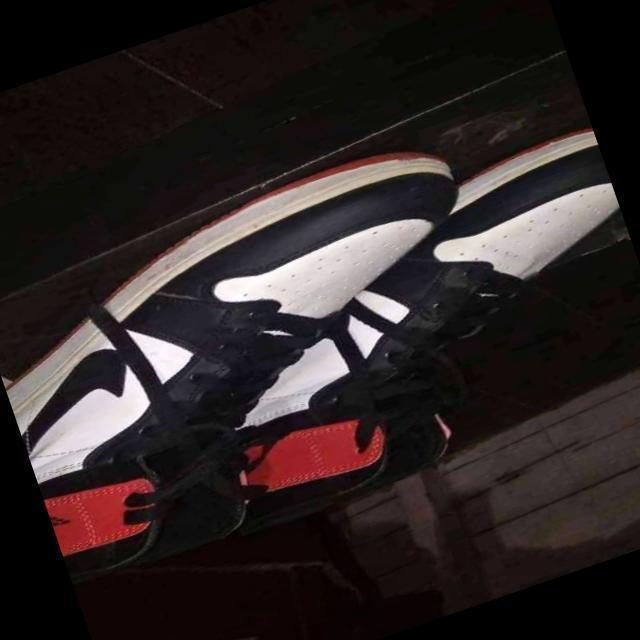nike fake jordan 1: (0, 125, 546, 590), (162, 123, 640, 530)
